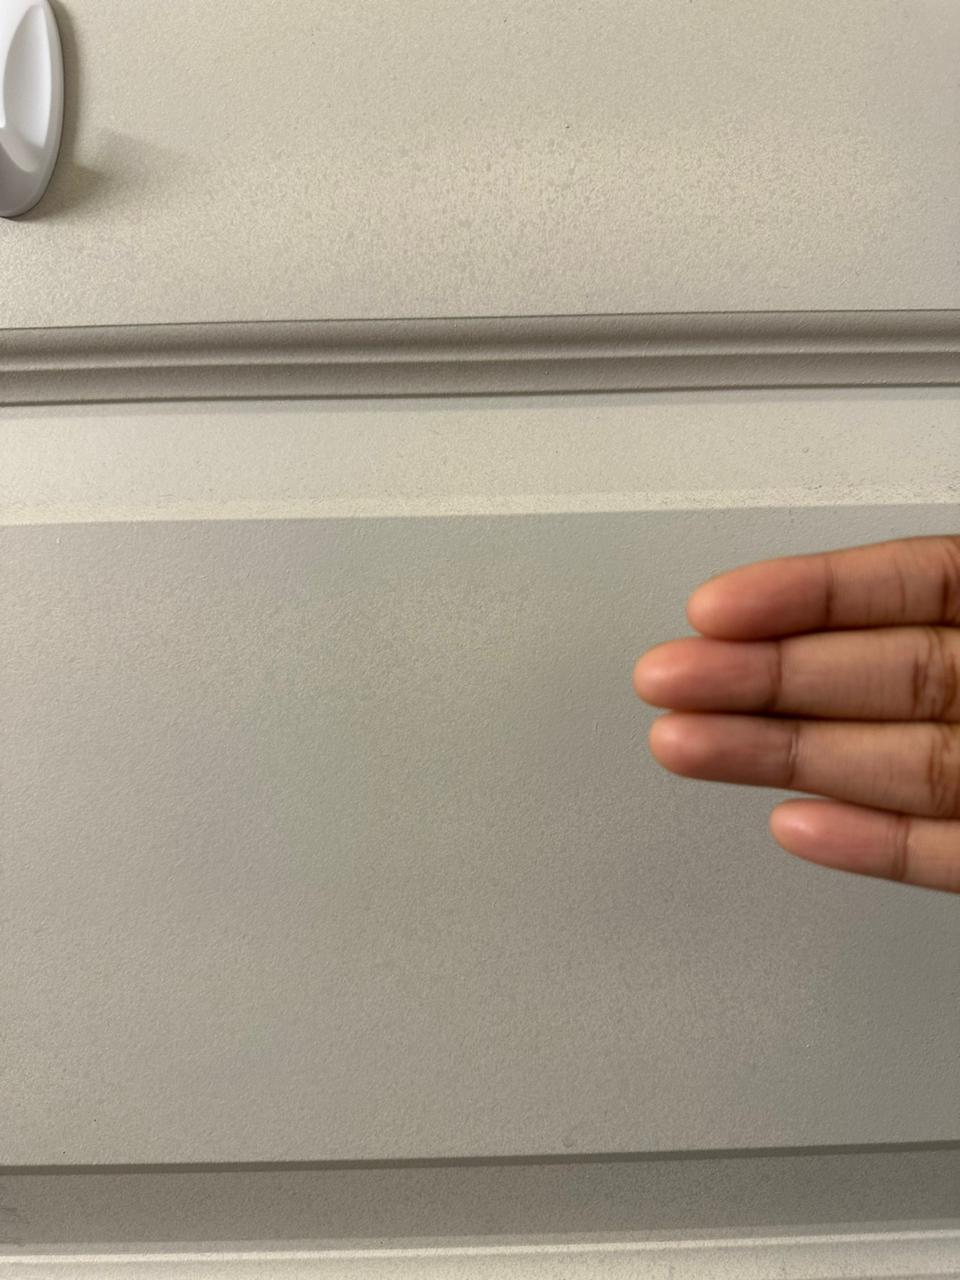finger: (663, 556, 838, 637), (753, 794, 907, 884), (634, 713, 797, 795), (616, 641, 785, 716)
